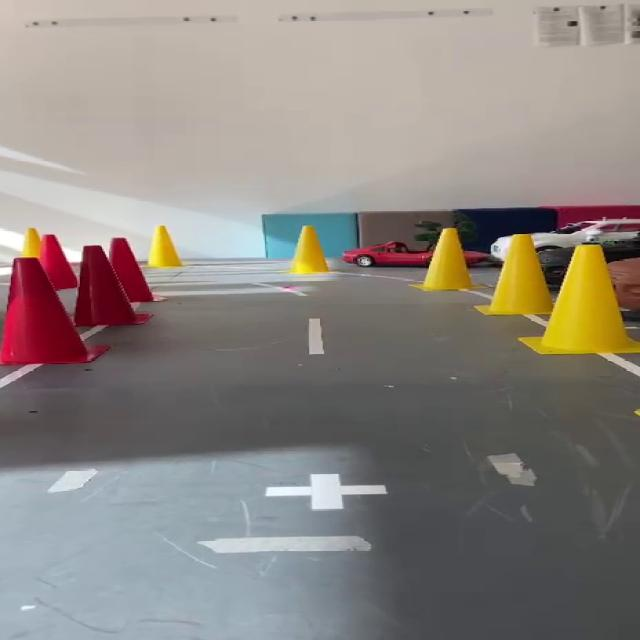Cone-red: (520, 245, 639, 354), (0, 258, 106, 365), (76, 238, 156, 325), (41, 234, 76, 289)
Cones-yellow: (520, 245, 639, 354), (479, 235, 552, 315), (417, 228, 473, 290), (291, 226, 328, 273), (146, 226, 181, 268), (22, 228, 40, 257)
